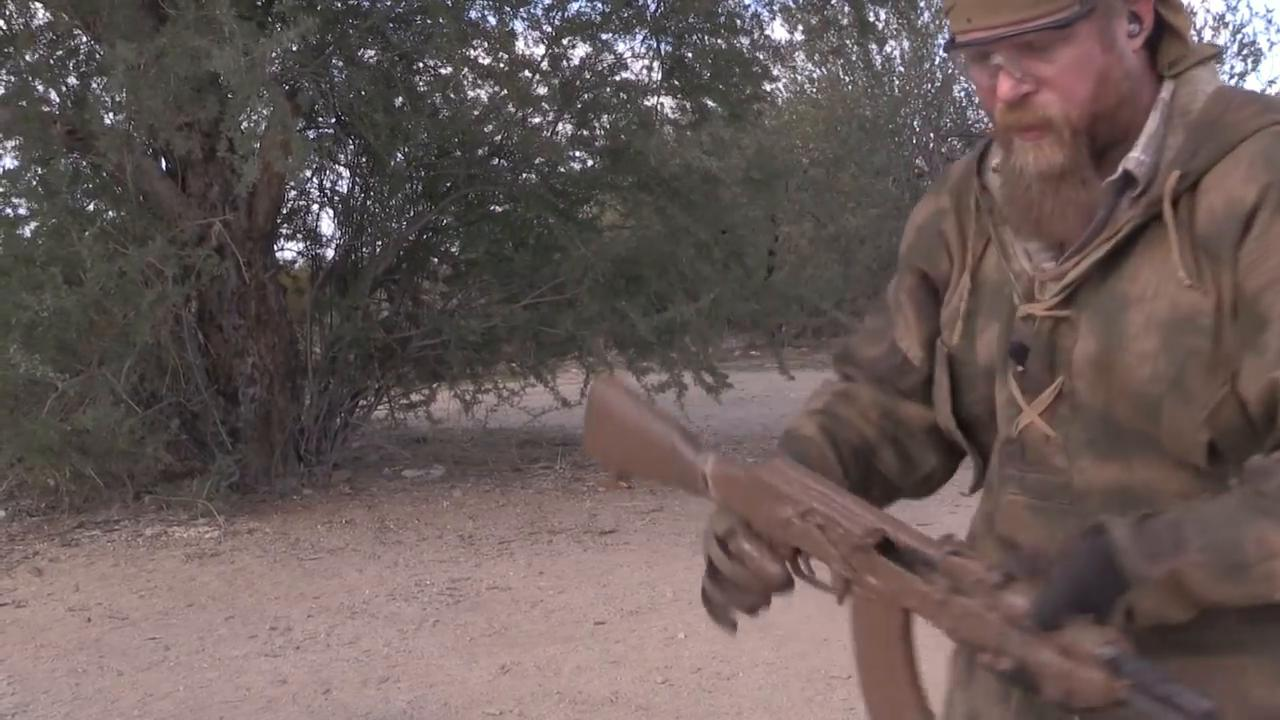AK47 Rifle: (579, 373, 1221, 719)
